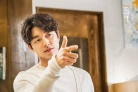male: (16, 12, 86, 79)
